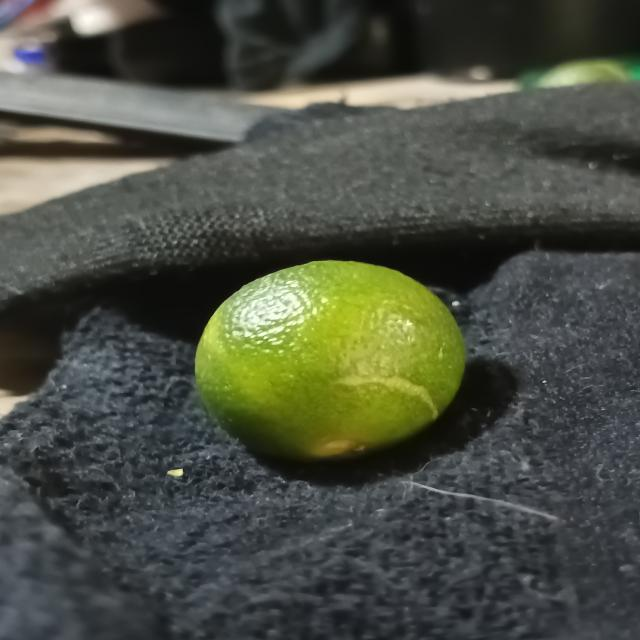thrips: (198, 259, 469, 458)
